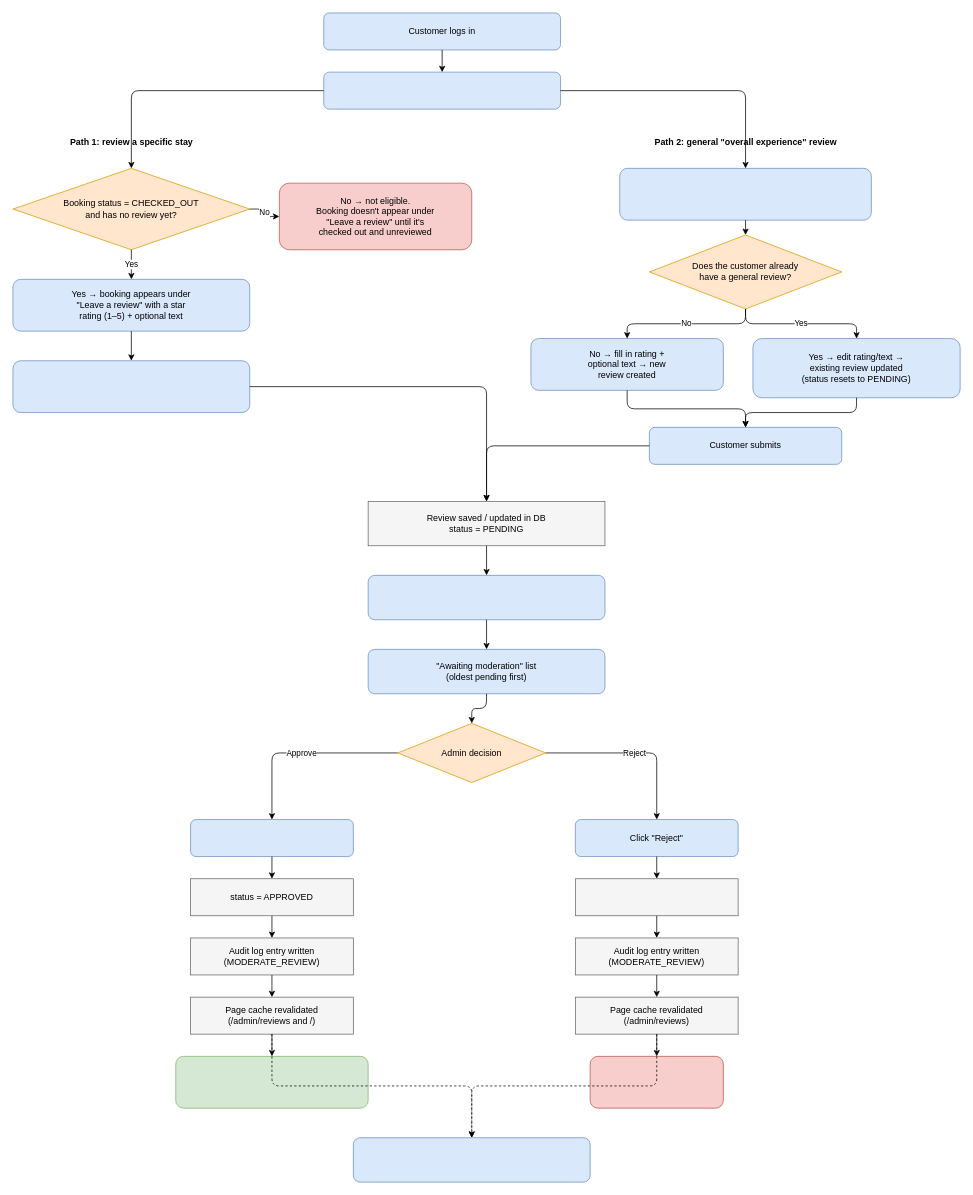
This 973x1195 diagram has some shape labels left out. Each missing label, with the centre of its shape:
Admin logs in and opens Admin → Reviews (/admin/reviews): point 486,597
Always available on /portal/reviews — no booking or completed stay required: point 745,194
Click "Approve": point 271,838
Customer submits (one-time — can't edit or resubmit for that stay): point 131,386
Eligible for public homepage "Recent Reviews" section (newest 6 approved shown): point 271,1082
Opens Portal → Reviews (/portal/reviews): point 442,90
Shown in admin "Recent decisions" list (last 30 approved/rejected reviews): point 471,1159
status = REJECTED: point 656,897
Stays hidden from the public site: point 656,1082
